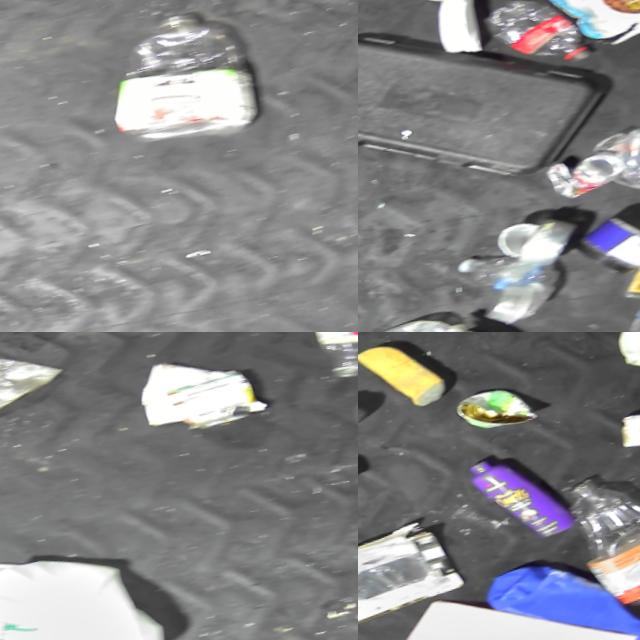can: (160, 356, 263, 433), (538, 138, 629, 201), (445, 371, 537, 433), (627, 377, 640, 434)
milk_jug: (0, 526, 172, 640)
non_white_jug: (466, 528, 640, 640)
plastic_bottle: (81, 0, 266, 158), (551, 442, 640, 611), (471, 0, 596, 77), (444, 234, 547, 299), (298, 332, 358, 377)
